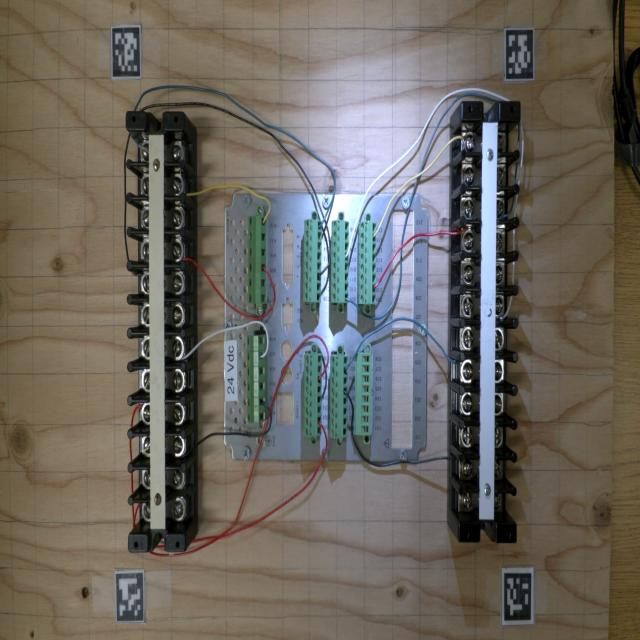Flathead_Block: (127, 112, 186, 551)
Phillips_Block: (459, 102, 520, 542)
Terminal_1: (247, 335, 266, 423), (248, 215, 266, 304)
Terminal_2: (303, 219, 322, 303), (304, 354, 322, 437), (330, 355, 348, 438), (358, 221, 376, 304), (331, 220, 349, 303)
